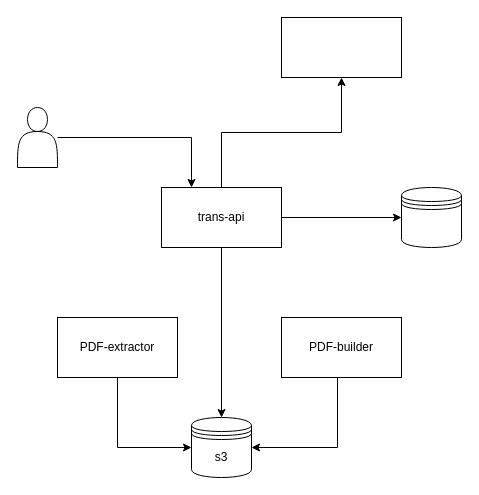
This 479x495 diagram has some shape labels left out. The centre of each missing label's shape, as x and y in pixels:
agent-flow: [341,47]
relation-db: [431,217]
